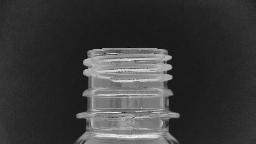No Cap: (73, 42, 183, 124)
